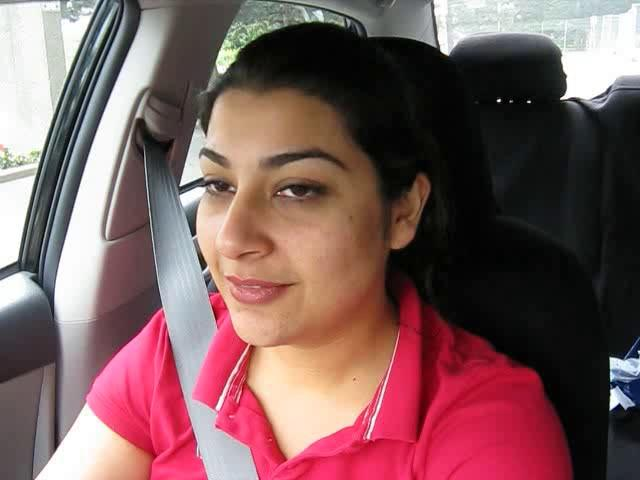close_eyeL: (189, 165, 242, 207)
close_eyeR: (260, 170, 342, 215)
no_yawn: (213, 261, 307, 316)
